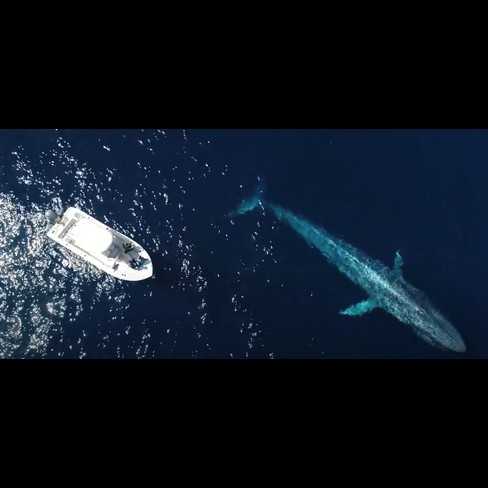bluewhale: (232, 174, 470, 358)
boat: (42, 203, 157, 287)
